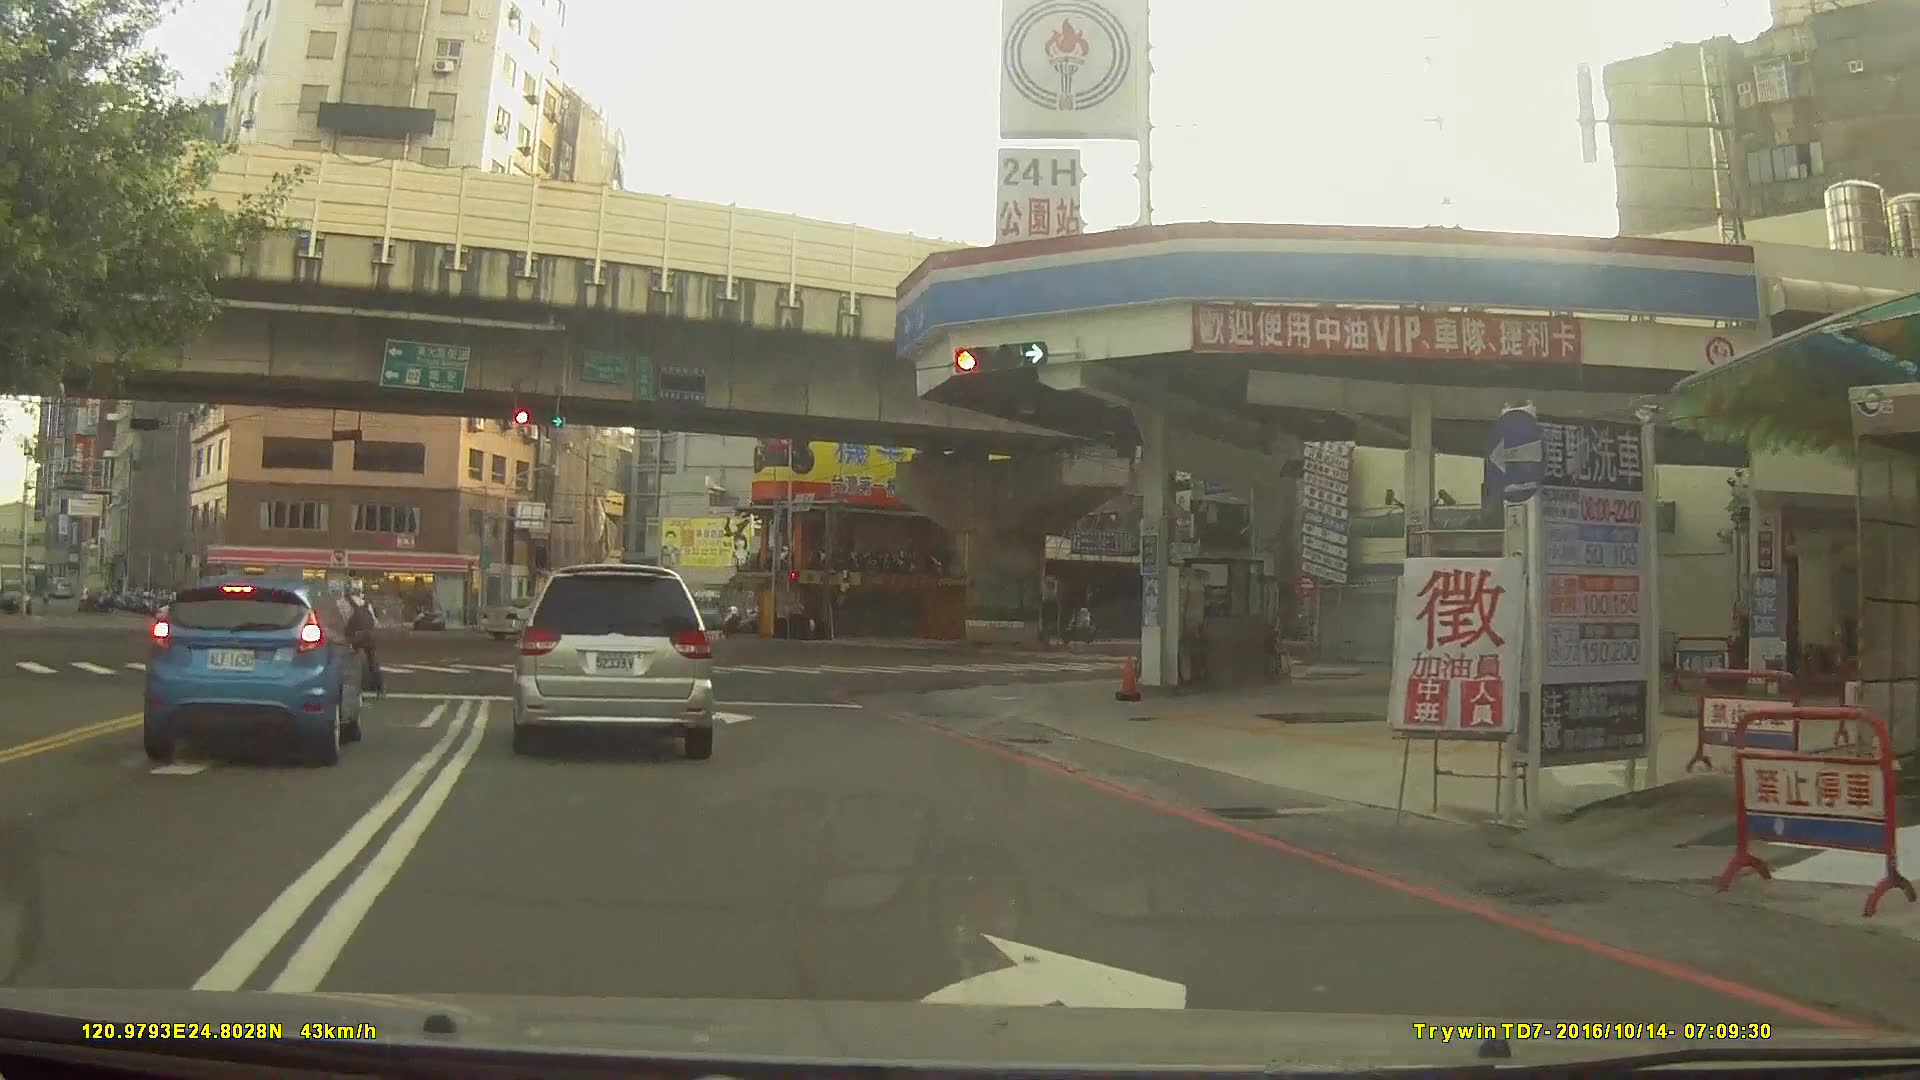rider: (331, 578, 391, 712)
vehicle: (138, 573, 365, 765), (508, 561, 714, 758), (180, 584, 311, 635), (478, 596, 582, 639)
